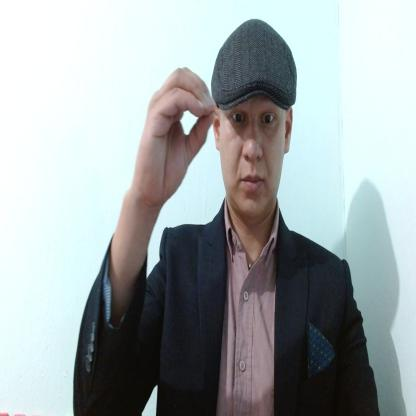O: (135, 66, 216, 204)
